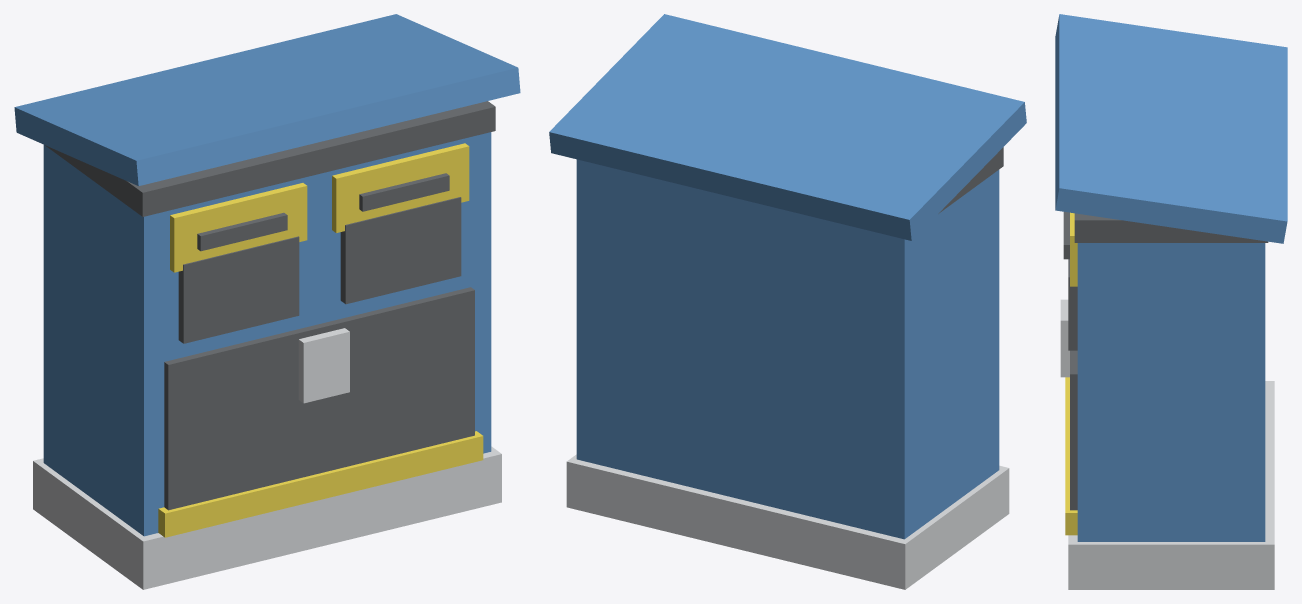
The model's file is recycling-and-waste-transfer-yard-recycling-and-waste--c4fb2b10__34905.glb.
3 renders of one model, left to right at view 1: azimuth 30°, elevation 25°; view 2: azimuth 150°, elevation 25°; view 3: azimuth 270°, elevation 25°, orthographic. The views are drawn at different scales.
Parts seen in each view (by area): view 1: recycling-and-waste-transfer-yard-battery-and-bulb-collectio (×4); view 2: recycling-and-waste-transfer-yard-battery-and-bulb-collectio (×3); view 3: recycling-and-waste-transfer-yard-battery-and-bulb-collectio (×4).
Boxes of the visible parts, bbox=[...] form: recycling-and-waste-transfer-yard-battery-and-bulb-collectio (×4): bbox=[14, 14, 520, 589]; recycling-and-waste-transfer-yard-battery-and-bulb-collectio (×3): bbox=[549, 14, 1026, 589]; recycling-and-waste-transfer-yard-battery-and-bulb-collectio (×4): bbox=[1055, 14, 1287, 589].
Bounding box in the file's own units: 1.32 × 1.44 × 0.7432.
